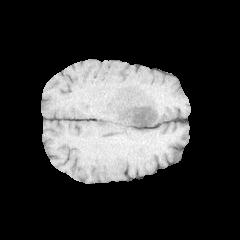glioma: (103, 84, 174, 137)
